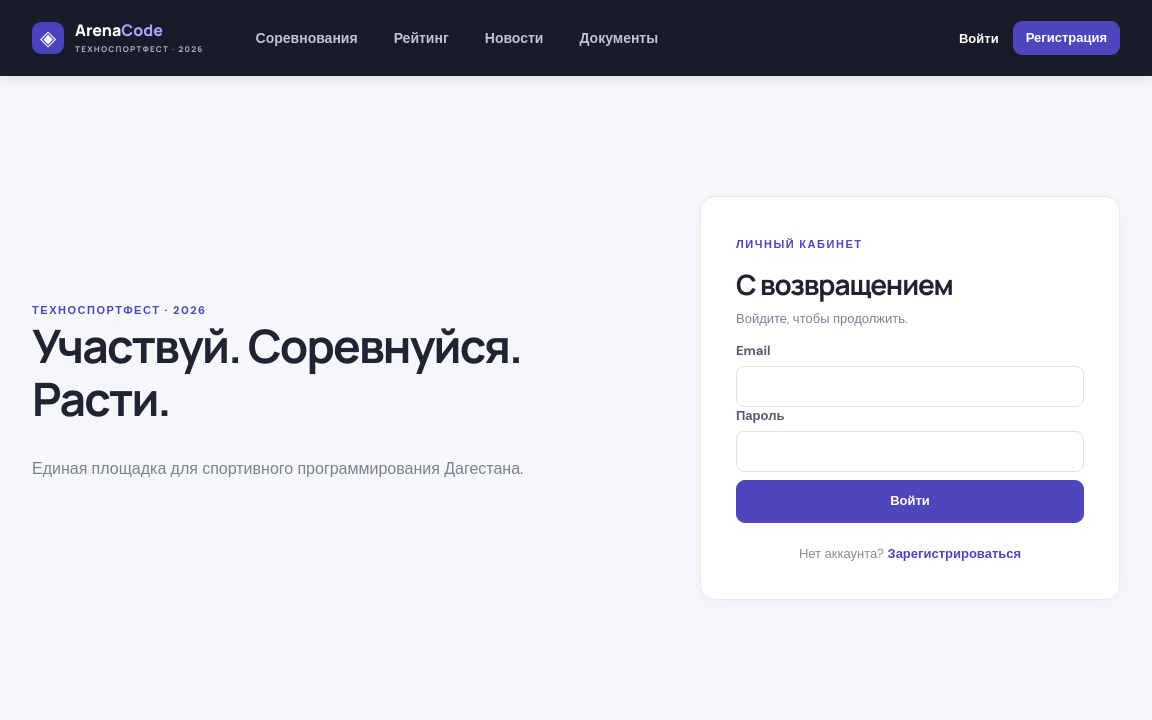
Test: основной путь MVP › очищает ошибку входа при переходе к регистрации
Type "absent@example.com" into the field labelled "Email".
click(910, 387); type("absent@example.com")  # box [736, 366, 1084, 407]
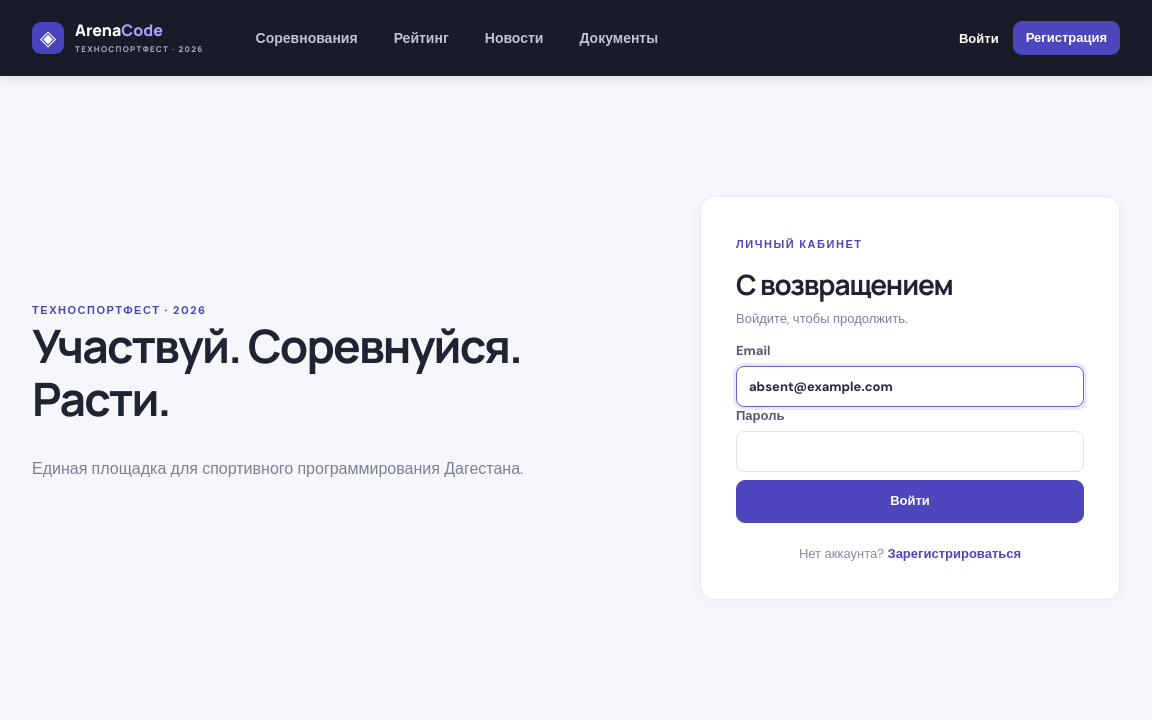
Type "wrong-password-123" into the password field labelled "Пароль".
click(910, 452); type("wrong-password-123")  # box [736, 431, 1084, 472]
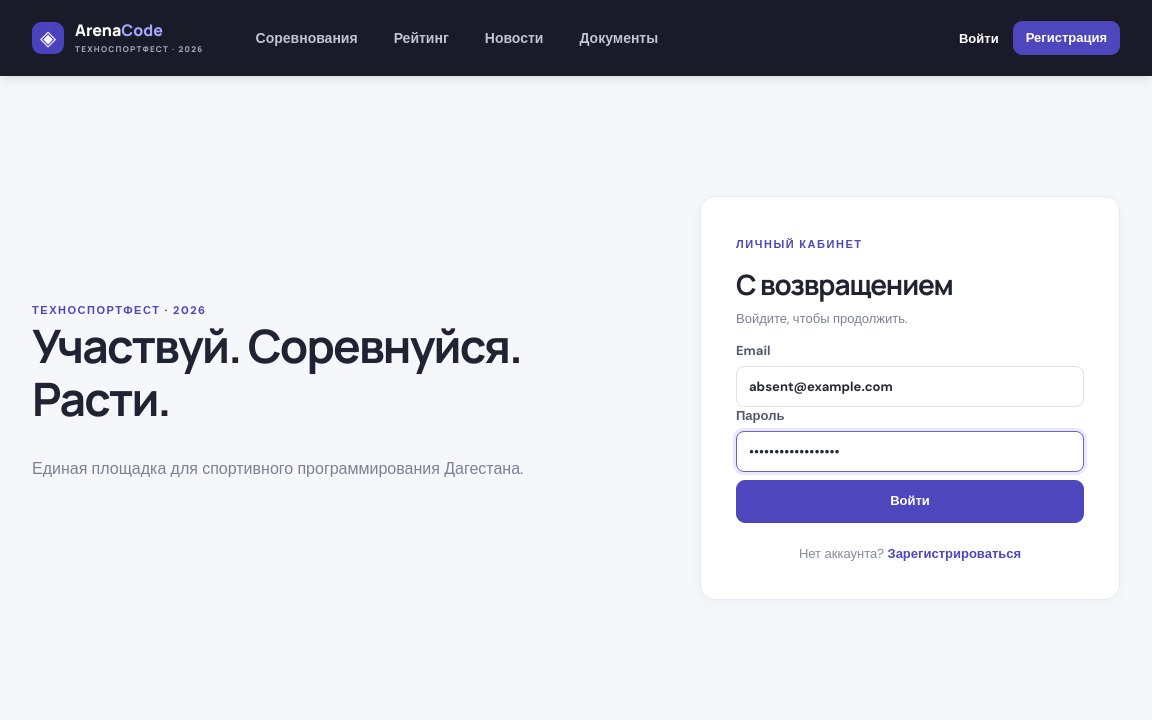
Click the button "Войти".
click(910, 502)  # box [736, 480, 1084, 523]
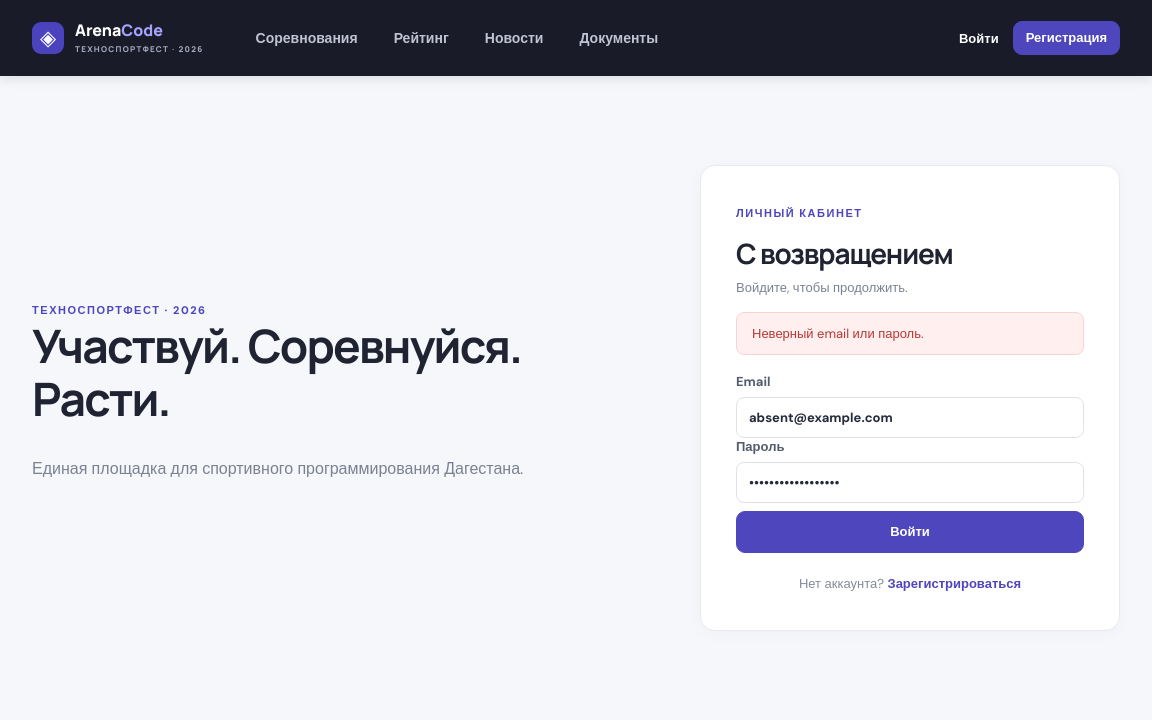
Now the text "Неверный email или пароль." is shown, box [736, 312, 1084, 355]
Click the link "Зарегистрироваться".
click(954, 584)  # box [888, 575, 1021, 592]
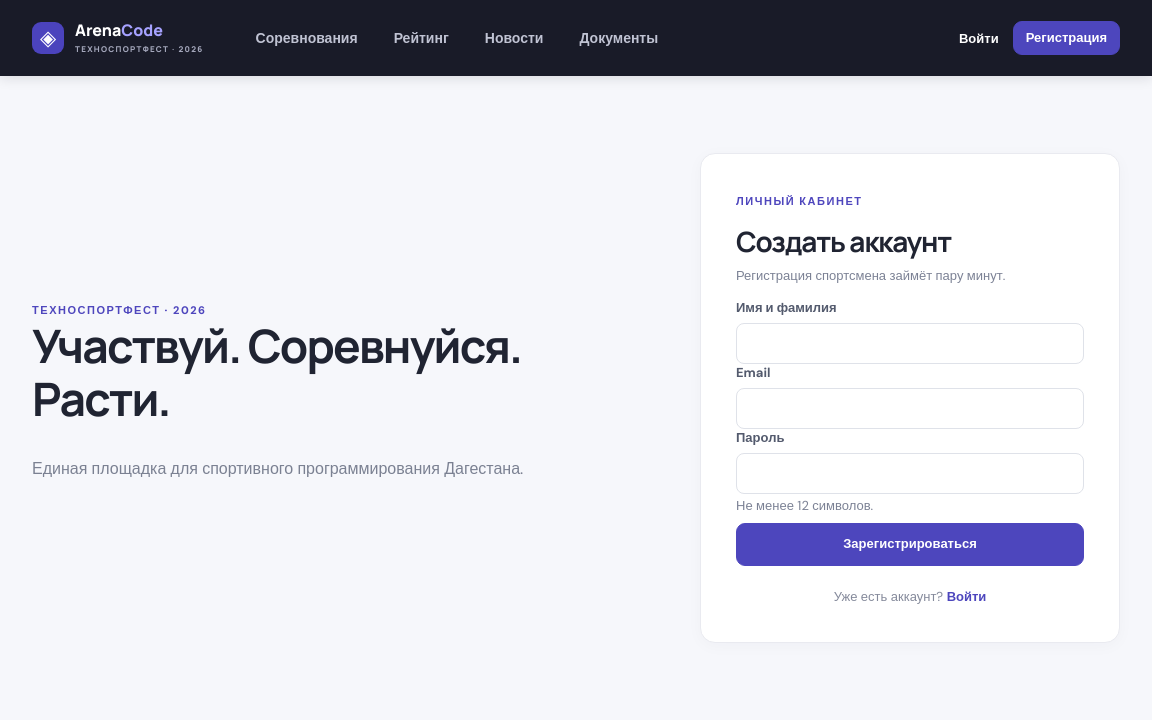
Now the heading "Создать аккаунт" is shown, box [736, 222, 951, 260]
Now the text "Неверный email или пароль." is gone
